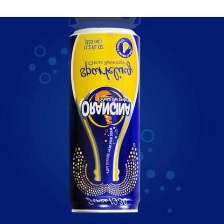can: (64, 25, 144, 216)
